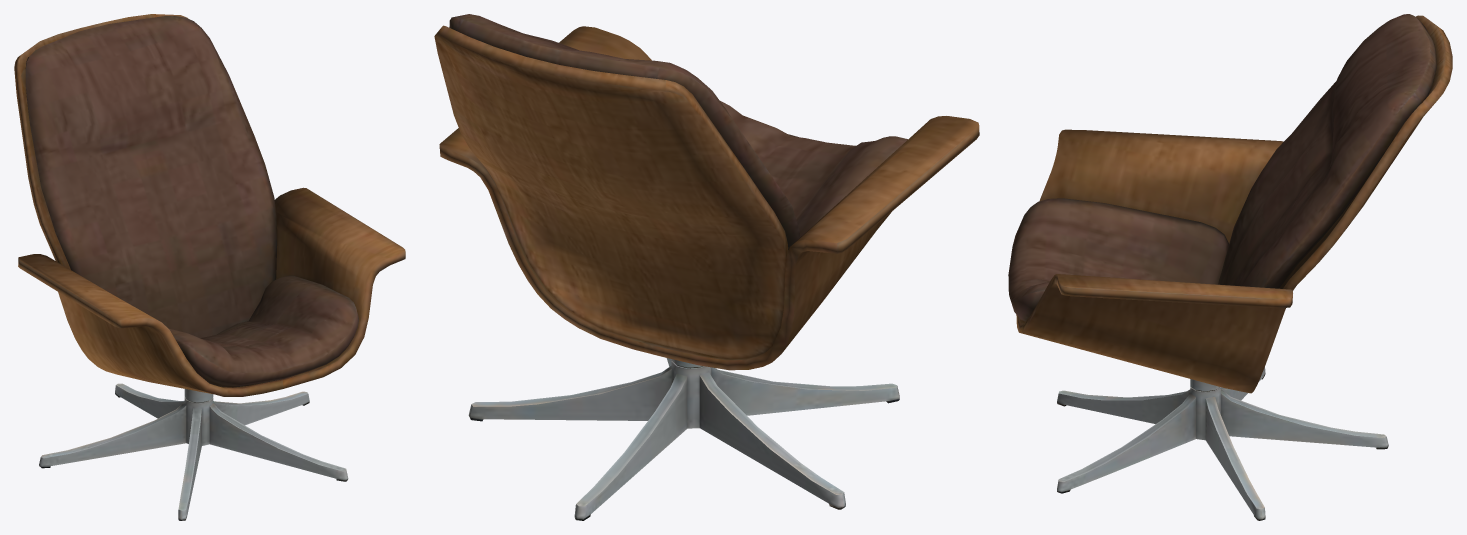
The model's file is lounge_chair.glb.
3 renders of one model, left to right at view 1: azimuth 30°, elevation 25°; view 2: azimuth 150°, elevation 25°; view 3: azimuth 270°, elevation 25°, orthographic. The views are drawn at different scales.
Visible parts, largest first — view 1: mid_century_lounge_chair; view 2: mid_century_lounge_chair; view 3: mid_century_lounge_chair.
Part boxes in pixels (x1=…): mid_century_lounge_chair: x1=14, y1=14, x2=405, y2=520; mid_century_lounge_chair: x1=434, y1=14, x2=979, y2=520; mid_century_lounge_chair: x1=1008, y1=14, x2=1452, y2=520.
Size of the model in its own units: 1.01 by 1.17 by 1.19.
1 material, 1 textured.
